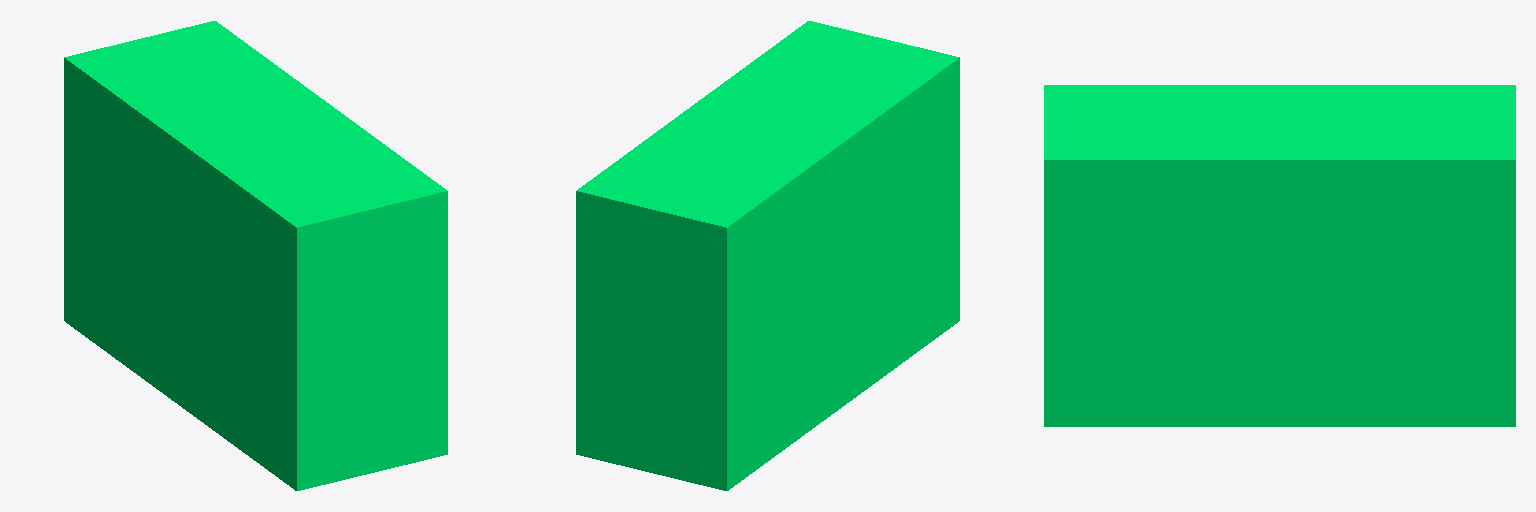
URDF robot description (myfirst):
<?xml version="1.0"?>
 <robot name="myfirst">
   <material name="green">
     <color rgba="0 1 0.498 1"/>
   </material>
   <link name="right_leg">
     <visual>
       <geometry>
         <box size="0.16 0.10 0.06"/>
       </geometry>
       <origin xyz="0 0 0.1067185" rpy="1.5707963 0 1.5707963"/>
       <material name="green"/>
     </visual>
     <collision>
       <geometry>
         <box size="0.16 0.21343700408935547 0.061"/>
       </geometry>
       <origin xyz="0 0 0.1067185" rpy="1.5707963 0 1.5707963"/>
     </collision>
     <inertial>
       <mass value="1"/>
       <inertia ixx="1.0" ixy="0.0" ixz="0.0" iyy="1.0" iyz="0.0" izz="1.0"/>
     </inertial>
   </link>
 </robot>

--- Render facts (derived) ---
The picture shows the robot from 3 angles, left to right: view 1: azimuth 30°, elevation 25°; view 2: azimuth 150°, elevation 25°; view 3: azimuth 270°, elevation 25°; orthographic projection.
Model myfirst with 1 links and 0 joints (none), rooted at right_leg, posed every joint at zero.
Links seen in each view (by area): view 1: right_leg; view 2: right_leg; view 3: right_leg.
Boxes of the visible links, x1,y1,x2,y2 form: right_leg: [64, 21, 447, 490]; right_leg: [576, 21, 959, 490]; right_leg: [1044, 85, 1515, 426].
Size in the robot's own frame: 0.06 by 0.16 by 0.1 metres.
Geometry: primitives only (box / cylinder / sphere), no mesh files.
